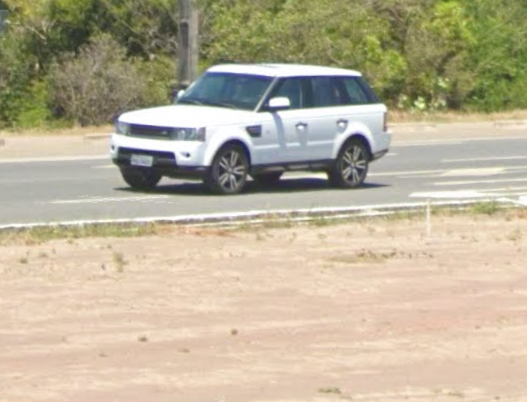car: (109, 59, 391, 197)
